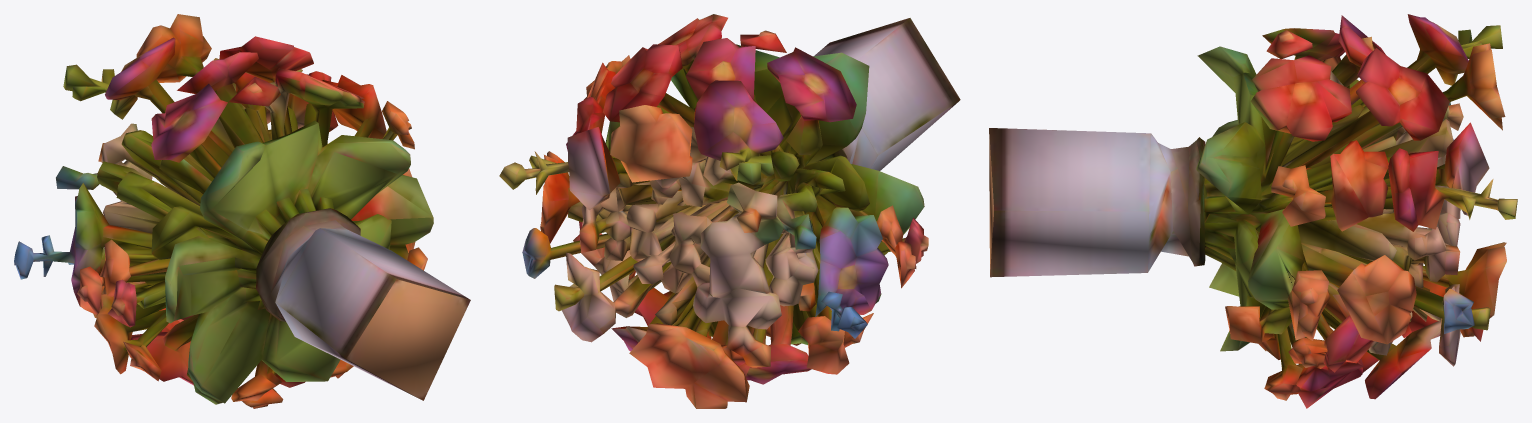
The picture shows the model from 3 angles, left to right: view 1: azimuth 30°, elevation 25°; view 2: azimuth 150°, elevation 25°; view 3: azimuth 270°, elevation 25°; orthographic projection. The views are drawn at different scales.
Visible parts, largest first — view 1: material; view 2: material; view 3: material.
Part boxes in pixels (x1,y1,x2,y2): material: (14, 14, 470, 408); material: (499, 14, 960, 408); material: (989, 14, 1517, 408).
Bounding box in the file's own units: 0.8054 × 0.7522 × 1.
1 material, 1 textured.
